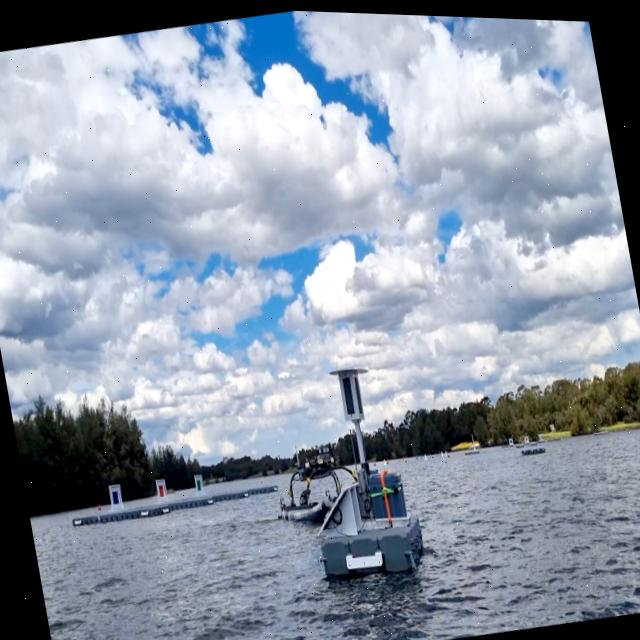led: (339, 371, 358, 416)
